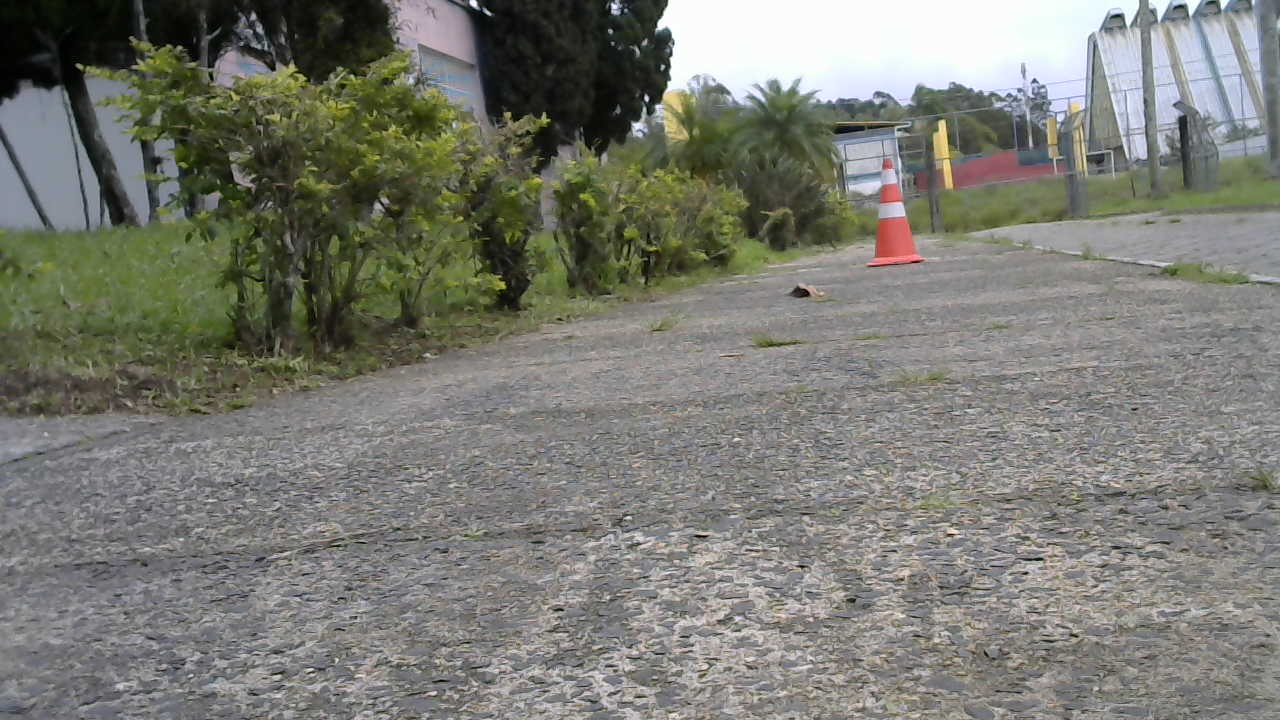cone: (866, 152, 930, 264)
